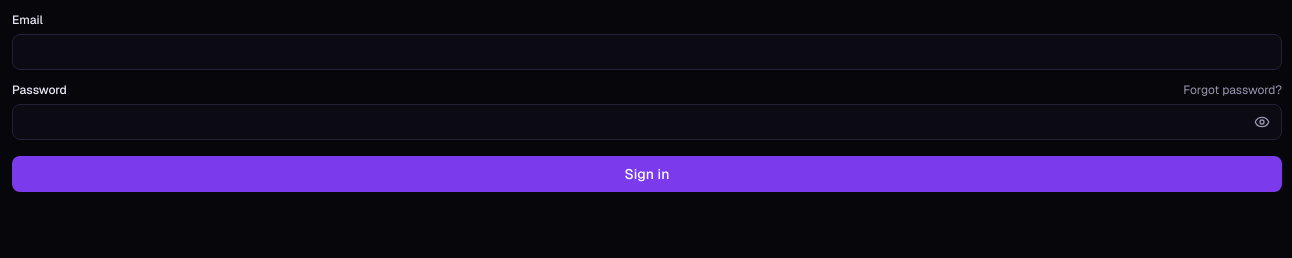
Test case: SignInForm › renders safe ProblemDetails credentials failure without optimistic navigation
In the field labelled "Email": (647, 52) [12, 34, 1282, 70], type "seller@example.com"
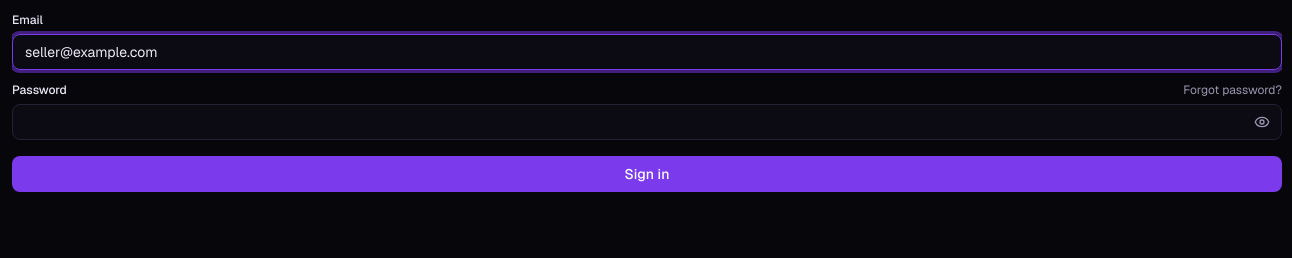
In the password field labelled "Password": (647, 122) [12, 104, 1282, 140], type "correct horse battery staple"
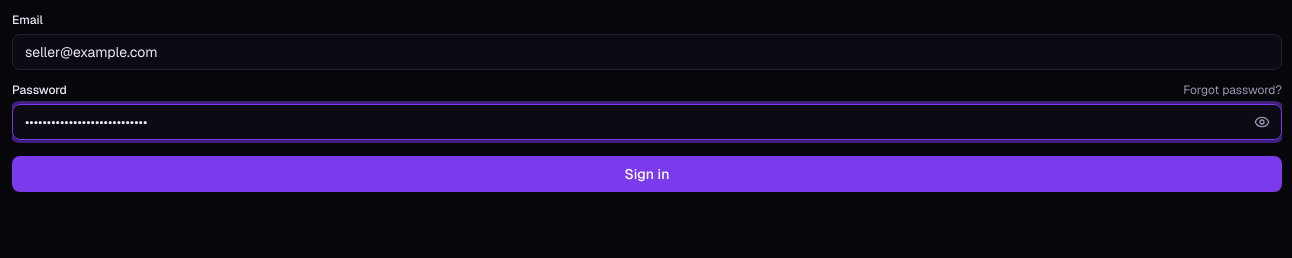
Click the button "Sign in": (647, 174) [12, 156, 1282, 192]
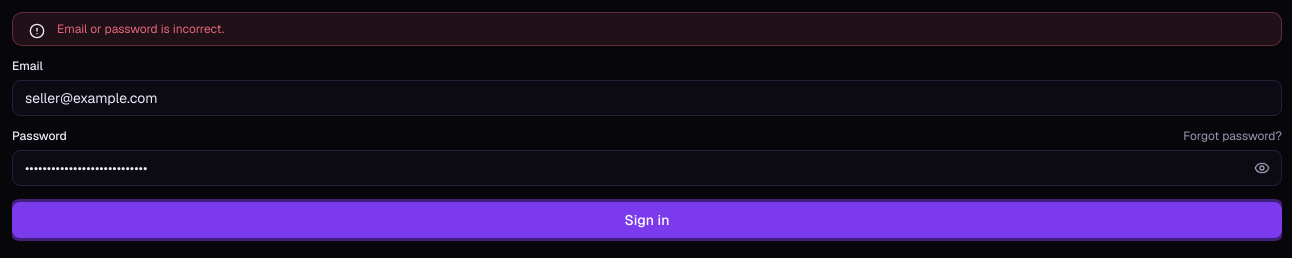
Result: the text "Email or password is incorrect." is shown at [57, 21, 224, 37]
